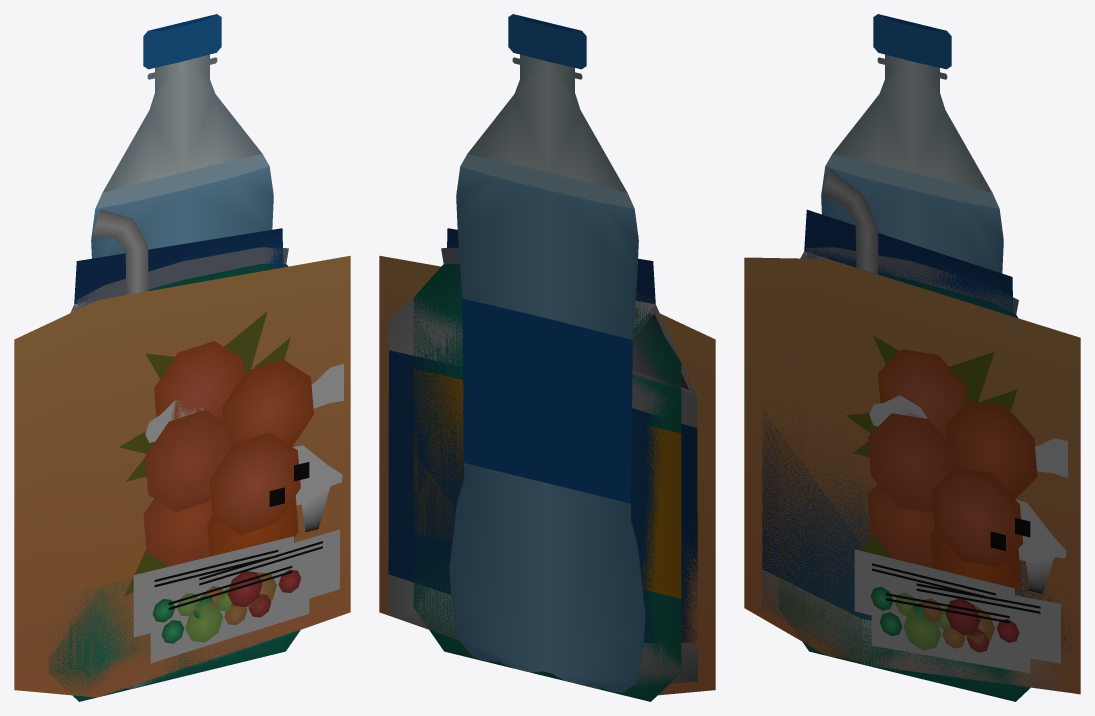
Rendered from drinkscut.gltf.
3 renders of one model, left to right at view 1: azimuth 30°, elevation 25°; view 2: azimuth 150°, elevation 25°; view 3: azimuth 330°, elevation 25°, orthographic.
Parts seen in each view (by area): view 1: juice_GEO:PIV, waterbottle_GEO, soda_GEO, milk_GEO:PIV; view 2: waterbottle_GEO, milk_GEO:PIV, soda_GEO, juice_GEO:PIV; view 3: juice_GEO:PIV, milk_GEO:PIV, waterbottle_GEO, soda_GEO.
Boxes of the visible parts, left/top/right/bottom form: juice_GEO:PIV: left=14, top=209, right=350, bottom=697; waterbottle_GEO: left=91, top=14, right=273, bottom=258; soda_GEO: left=48, top=247, right=300, bottom=701; milk_GEO:PIV: left=70, top=228, right=343, bottom=688; waterbottle_GEO: left=449, top=14, right=645, bottom=692; milk_GEO:PIV: left=388, top=228, right=697, bottom=688; soda_GEO: left=413, top=247, right=681, bottom=701; juice_GEO:PIV: left=379, top=236, right=715, bottom=695; juice_GEO:PIV: left=744, top=169, right=1080, bottom=694; milk_GEO:PIV: left=762, top=209, right=1071, bottom=692; waterbottle_GEO: left=821, top=14, right=1003, bottom=273; soda_GEO: left=778, top=247, right=1030, bottom=701.
Bounding box in the file's own units: 65.17 × 121 × 2.11.
